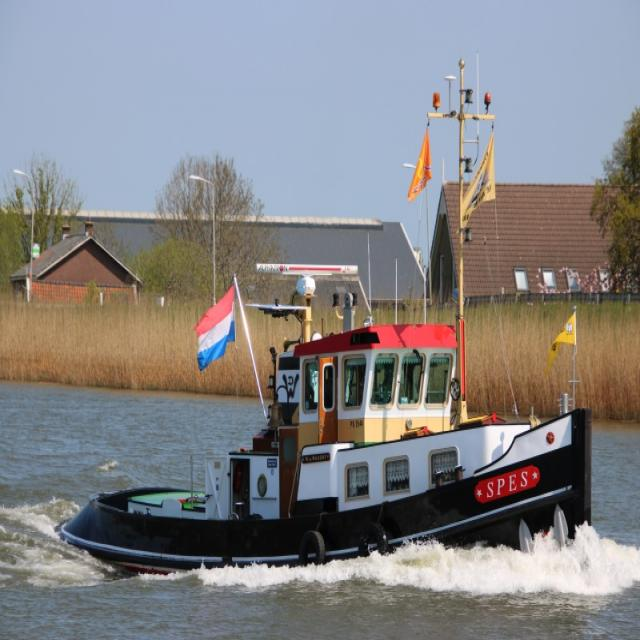tugboat: (56, 256, 599, 591)
